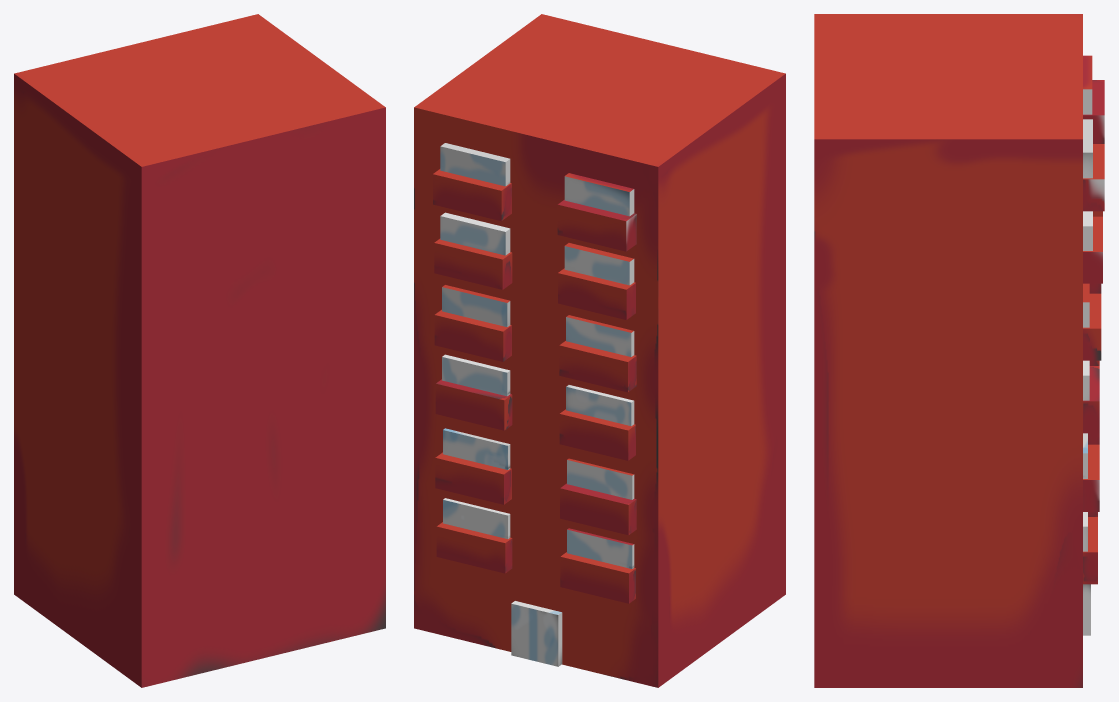
Rendered from predio1becovermelho.fbx.
3 views of the same model, side by side, from view 1: azimuth 30°, elevation 25°; view 2: azimuth 150°, elevation 25°; view 3: azimuth 270°, elevation 25° (orthographic). The views are drawn at different scales.
Visible parts, largest first — view 1: Cube; view 2: Cube; view 3: Cube.
Boxes of the visible parts, x1=… form: Cube: x1=14, y1=14, x2=385, y2=687; Cube: x1=414, y1=14, x2=785, y2=687; Cube: x1=814, y1=14, x2=1104, y2=687.
Bounding box in the file's own units: 565 × 1153 × 553.
